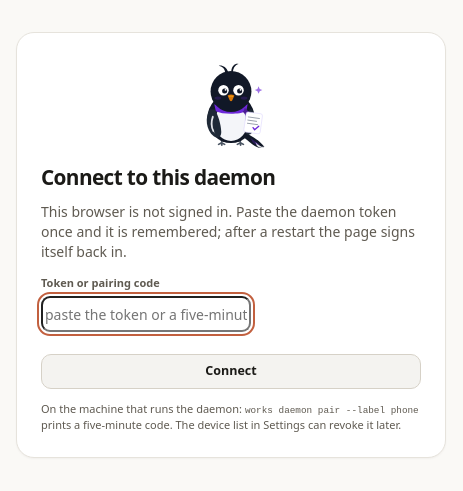
Scenario: SignIn › shows the daemon error and stays on the screen
In the password field labelled "Token or pairing code": (146, 314) [41,296,251,332], type "wrong"
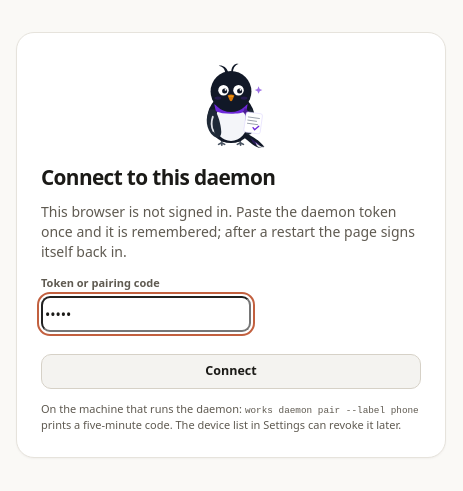
Click the button "Connect": (231, 371) [41,354,421,389]
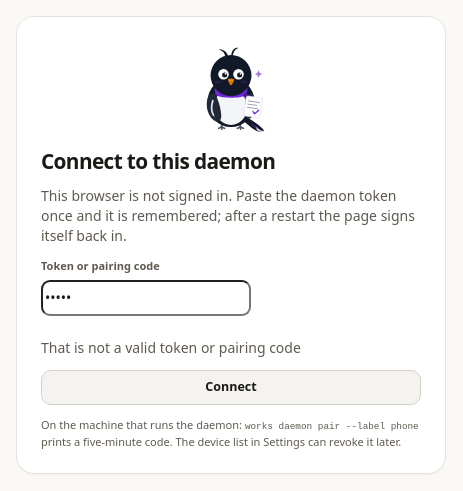
Check: the message shows "not a valid token", box [41,338,301,357]
